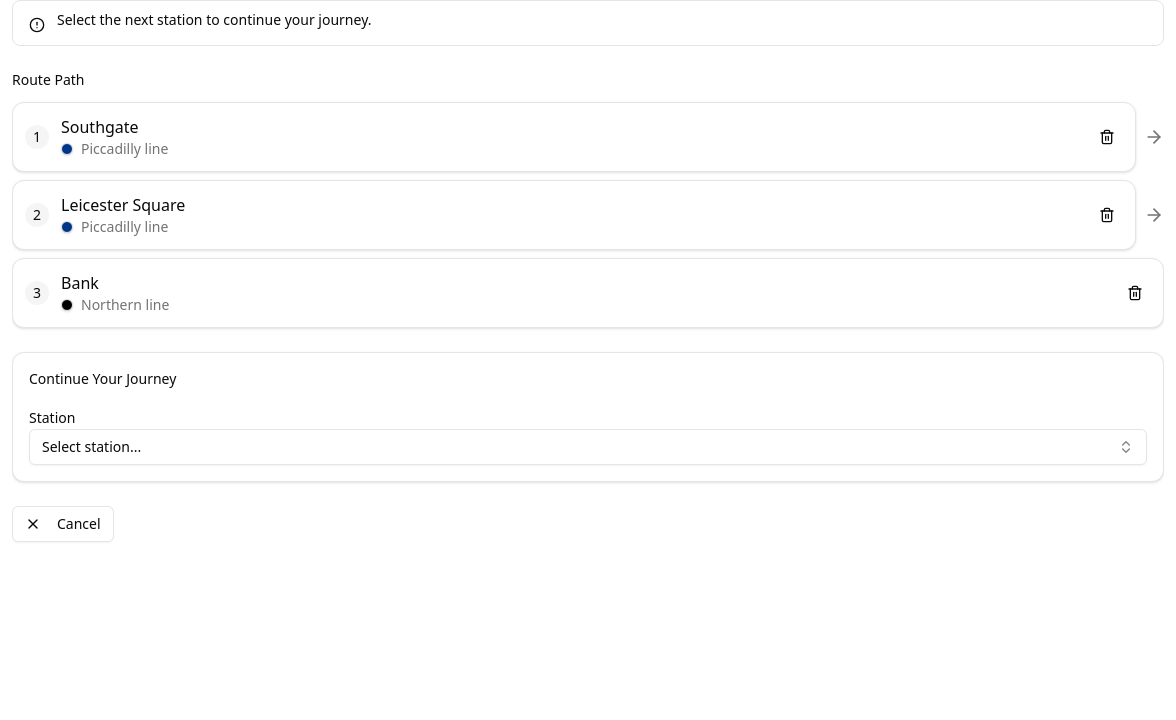
it: SegmentBuilder › segment deletion (issue #89) › should resume from last segment after deleting middle segment
The width and height of the screenshot is (1176, 720).
Check: the text "Southgate" is shown, box [61, 116, 139, 138]
Check: the text "Leicester Square" is shown, box [61, 194, 185, 216]
Click the button named "Delete" at (1107, 215), box [1091, 199, 1123, 231]
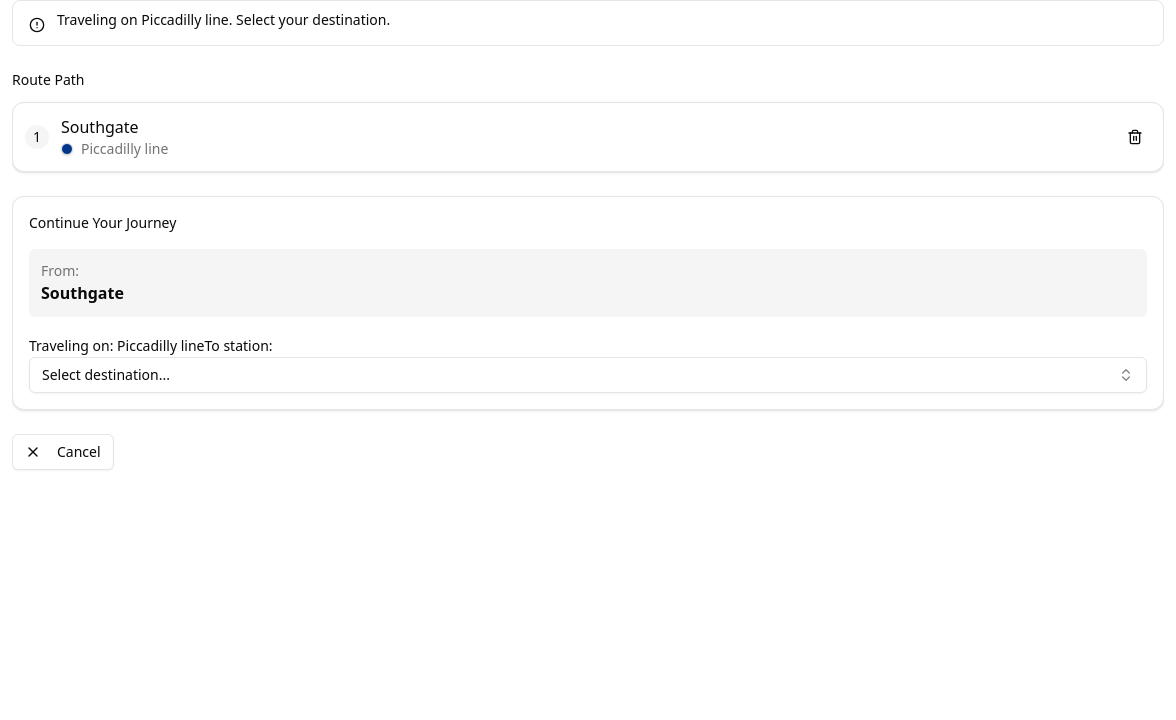
Check: the text "Leicester Square" is gone
Check: the text "Bank" is gone
